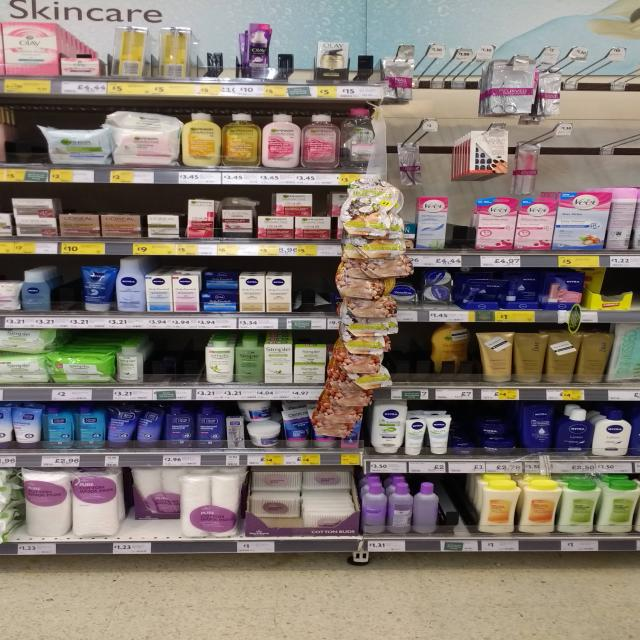empty: (140, 327, 208, 390), (390, 325, 438, 384), (264, 25, 310, 84), (437, 478, 483, 535), (201, 19, 242, 80), (340, 27, 381, 84), (2, 107, 45, 160), (299, 263, 341, 312), (53, 265, 90, 314)
